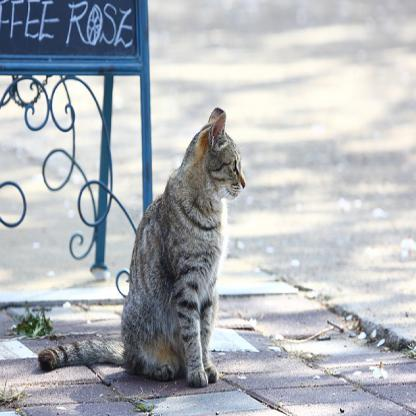cat: (36, 104, 246, 388)
